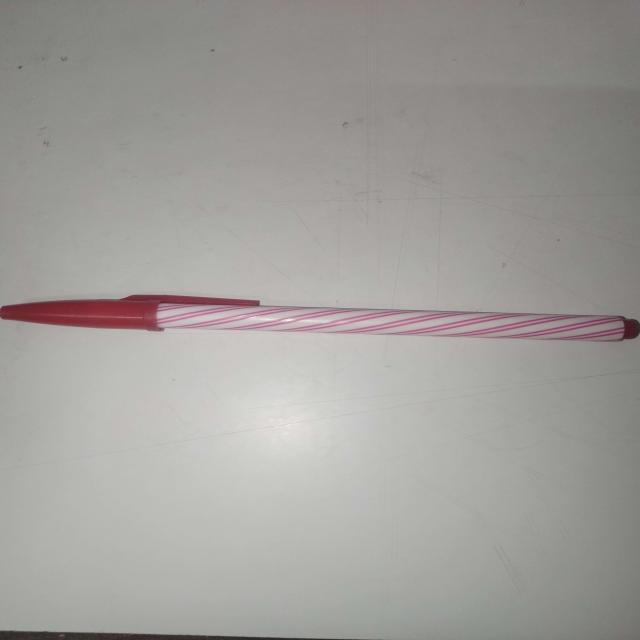pen_pencil: (0, 270, 640, 376)
